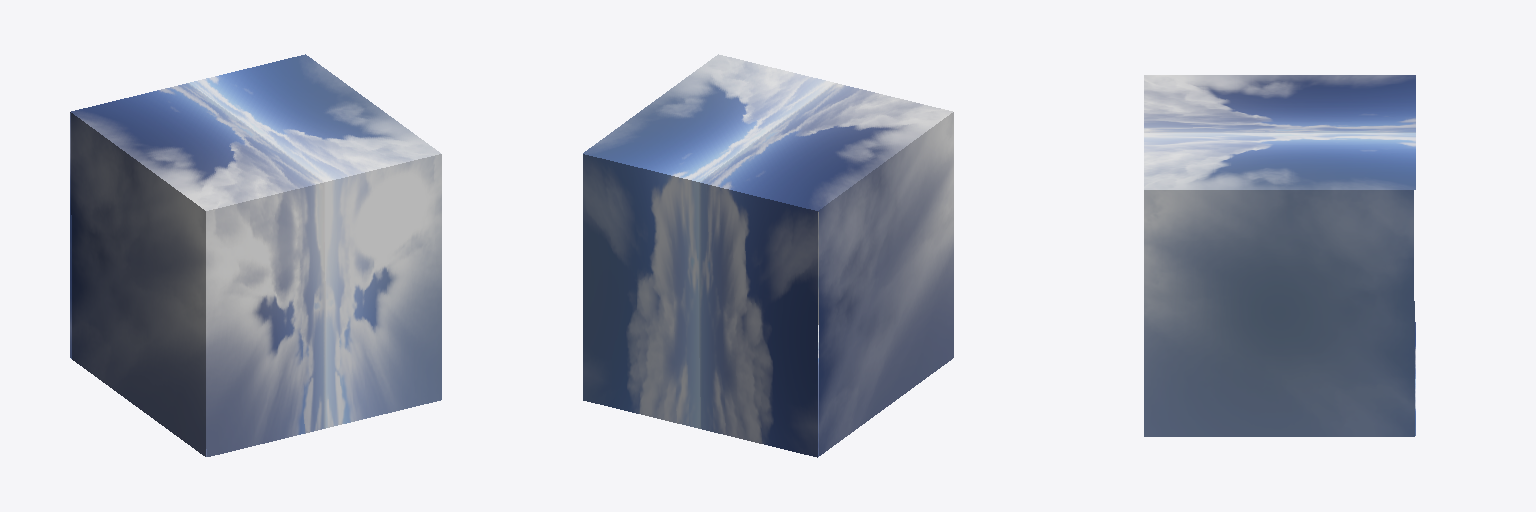
The picture shows the model from 3 angles: view 1: azimuth 30°, elevation 25°; view 2: azimuth 150°, elevation 25°; view 3: azimuth 270°, elevation 25°; orthographic projection.
Parts seen in each view (by area): view 1: Cube; view 2: Cube; view 3: Cube.
Boxes of the visible parts, box(x1,y1,x2,y2) form: Cube: box(70, 54, 441, 456); Cube: box(583, 54, 953, 457); Cube: box(1144, 75, 1415, 436).
Bounding box in the file's own units: 2 × 2 × 2.
Materials: 1 (1 with a texture image).